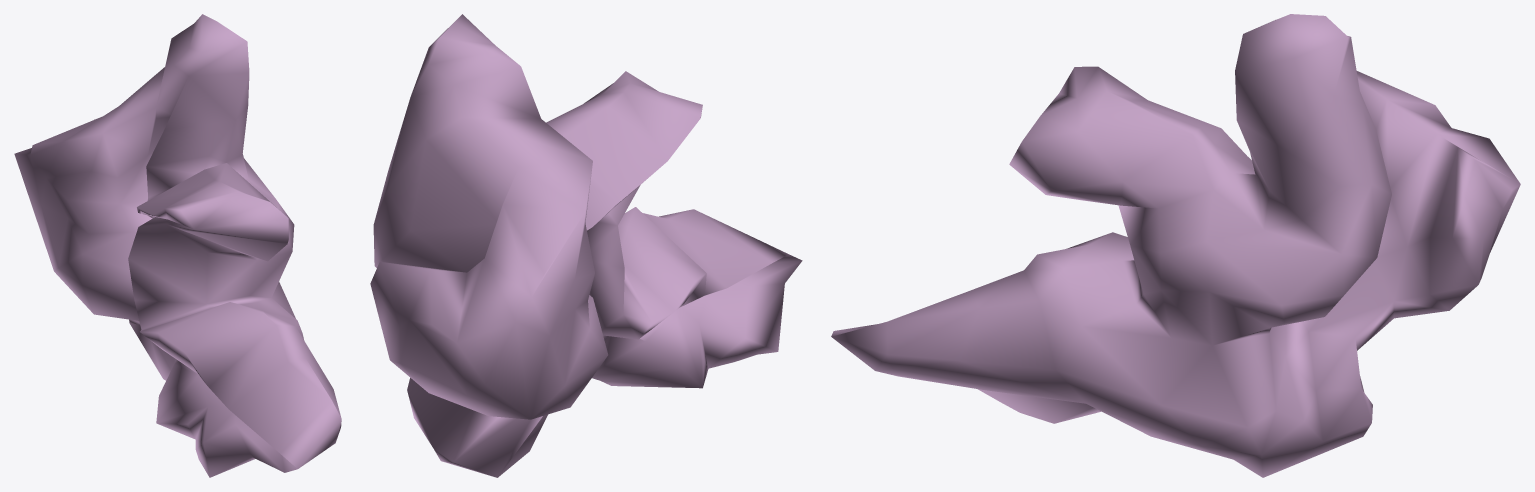
3 views of the same model, side by side, from view 1: azimuth 30°, elevation 25°; view 2: azimuth 150°, elevation 25°; view 3: azimuth 270°, elevation 25° (orthographic). The views are drawn at different scales.
Visible parts, largest first — view 1: 左侧顶下沟; view 2: 左侧顶下沟; view 3: 左侧顶下沟.
Part boxes in pixels (bbox=[...]): 左侧顶下沟: bbox=[14, 14, 341, 477]; 左侧顶下沟: bbox=[370, 14, 802, 477]; 左侧顶下沟: bbox=[831, 14, 1520, 477].
Size of the model in its own units: 0.0222 by 0.0391 by 0.0528.
